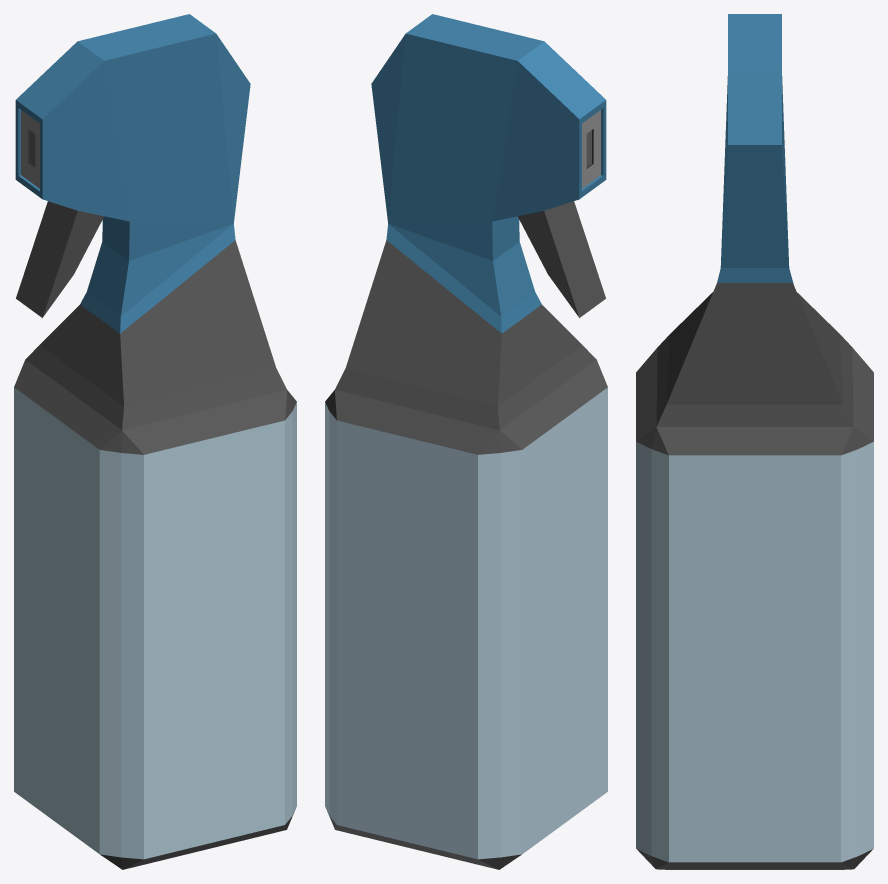
File: Air Freshner.fbx
The picture shows the model from 3 angles, left to right: view 1: azimuth 30°, elevation 25°; view 2: azimuth 150°, elevation 25°; view 3: azimuth 270°, elevation 25°; orthographic projection.
Visible parts, largest first — view 1: Air Freshner; view 2: Air Freshner; view 3: Air Freshner.
Part boxes in pixels (x1,y1,x2,y2): Air Freshner: [14, 14, 296, 869]; Air Freshner: [325, 14, 607, 869]; Air Freshner: [636, 14, 873, 869].
Bounding box in the file's own units: 12.95 × 43.17 × 11.78.
Materials: 1 (1 with a texture image).
